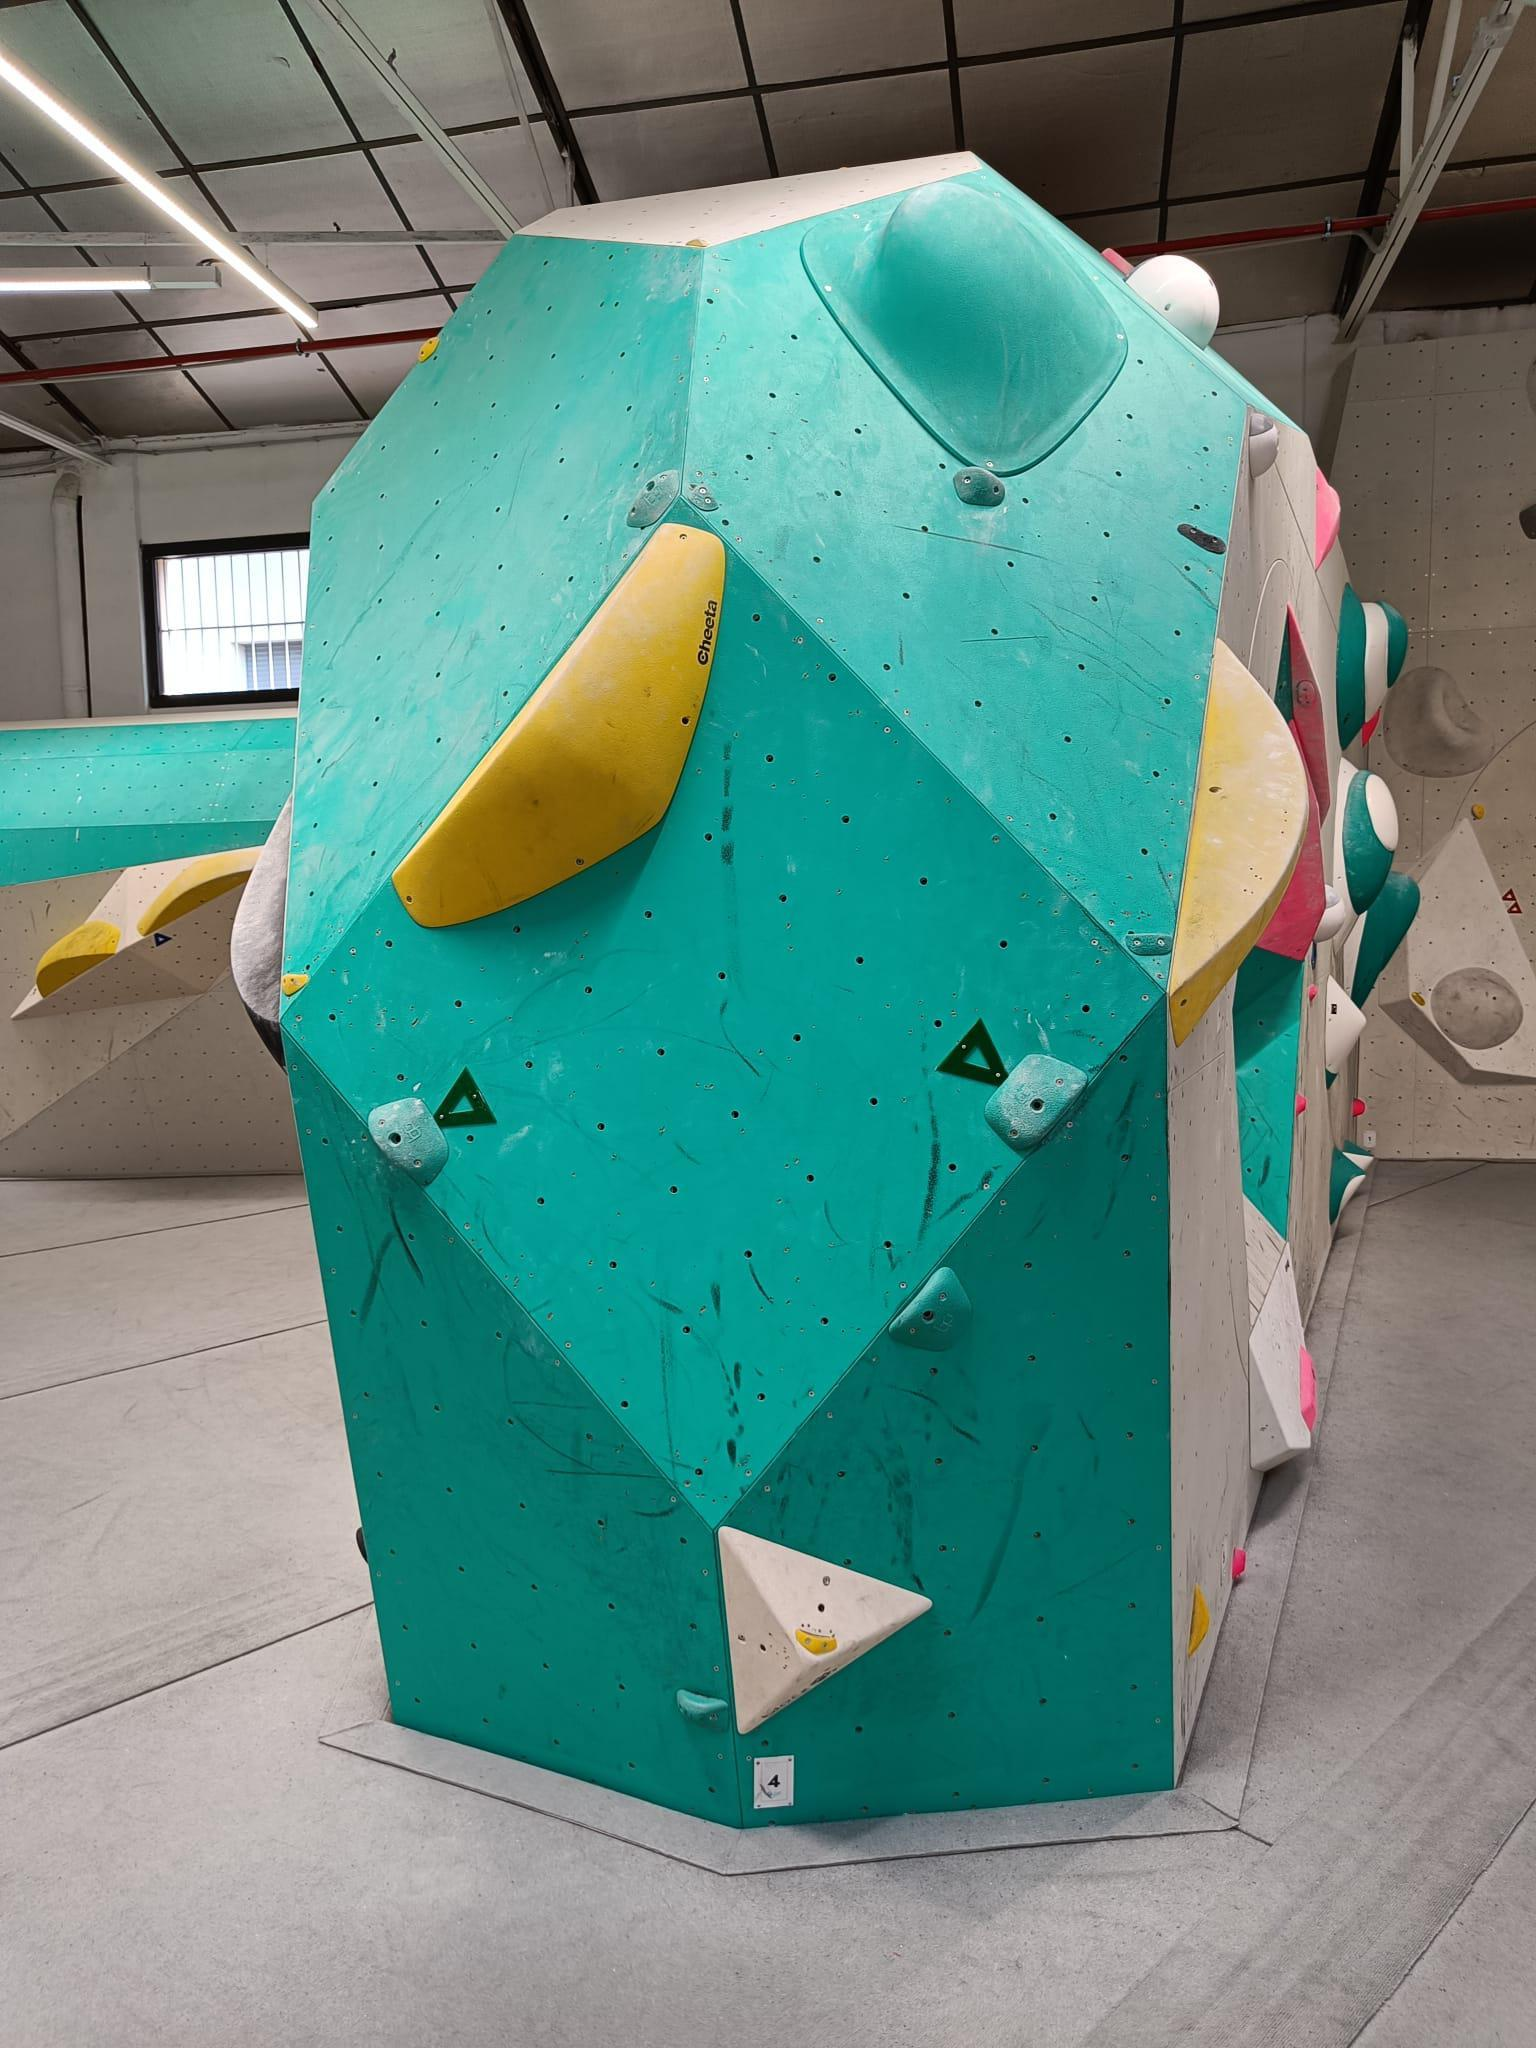hold: (392, 522, 726, 927), (799, 181, 1128, 477), (1168, 637, 1309, 1047), (1254, 719, 1326, 961), (231, 790, 292, 1076), (1333, 756, 1399, 958), (1383, 666, 1497, 777), (1336, 582, 1409, 751), (136, 848, 263, 937), (1342, 871, 1421, 1009), (984, 1053, 1087, 1151), (1288, 601, 1329, 827), (1126, 255, 1220, 350), (1431, 968, 1523, 1050), (887, 1266, 973, 1351), (368, 1097, 449, 1187), (35, 921, 123, 998), (1325, 974, 1368, 1089), (626, 469, 679, 527), (1329, 1145, 1367, 1226), (1313, 466, 1341, 572), (674, 1688, 729, 1729), (1312, 884, 1347, 943), (954, 466, 1005, 506), (1249, 413, 1279, 479), (1299, 1347, 1318, 1432), (1187, 1584, 1210, 1656), (1178, 524, 1226, 555), (795, 1627, 837, 1655), (1126, 934, 1173, 956), (1342, 1138, 1375, 1171), (686, 482, 720, 511), (1100, 248, 1134, 276), (281, 972, 310, 997), (1362, 708, 1379, 747), (416, 337, 440, 363), (1520, 503, 1536, 539), (1231, 1548, 1247, 1579), (357, 1527, 368, 1564), (1471, 801, 1486, 819), (1296, 1093, 1307, 1116), (1352, 1098, 1365, 1116), (1307, 984, 1318, 1001), (686, 239, 710, 247), (1412, 992, 1425, 1005)
volume: (718, 1526, 933, 1735), (10, 845, 265, 1021), (1378, 818, 1536, 1085), (1249, 1240, 1312, 1472)
